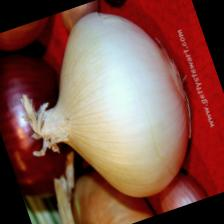onion: (0, 0, 215, 224)
